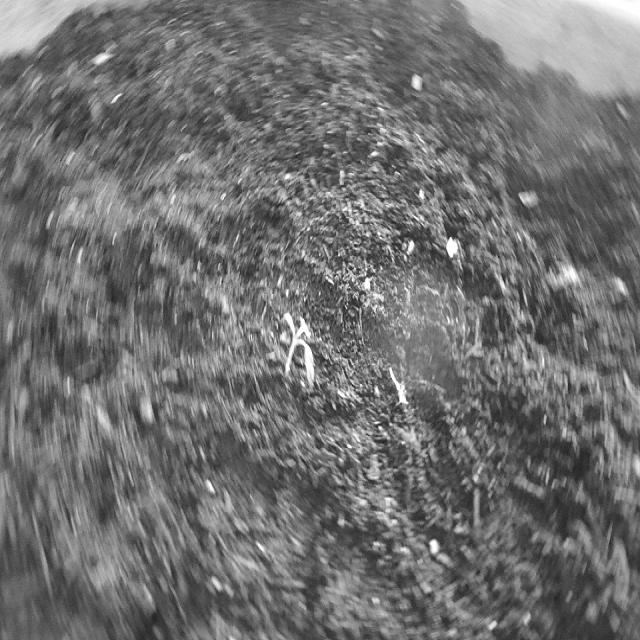Healthy: (276, 302, 321, 398)
